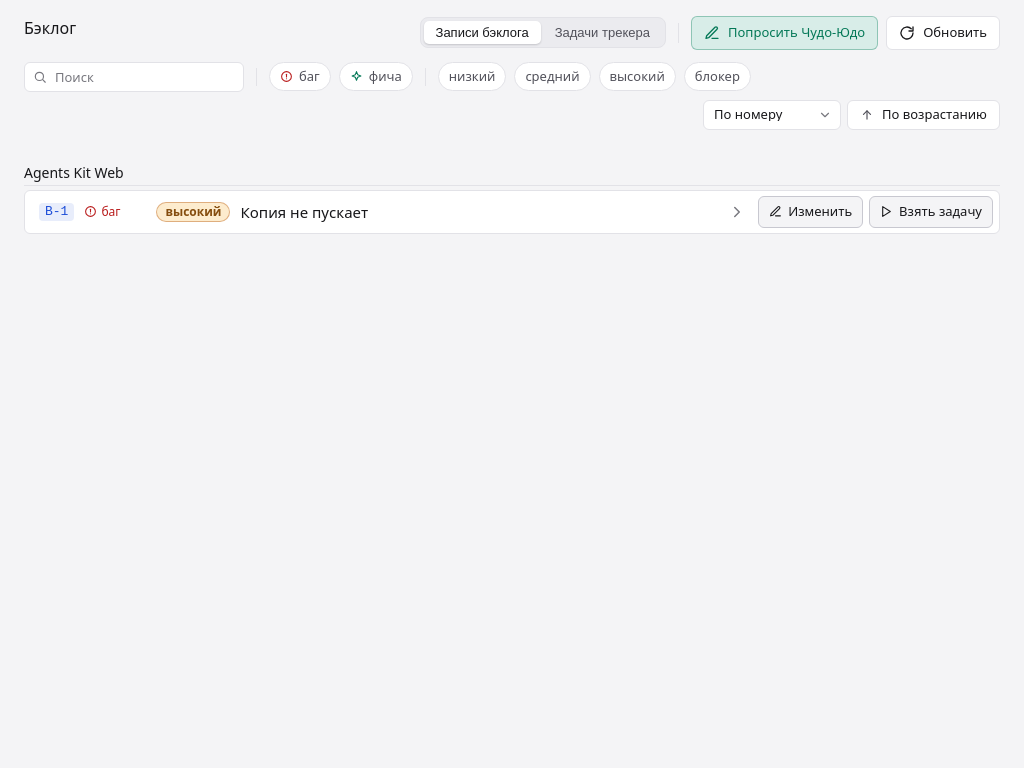
Test case: в окне записи тип и приоритет стоят под заголовком
What coordinates should you click on to do the following:
click the button "B-1 баг высокий Копия не пускает"
I would click on:
 (57, 212)
Its box is [33,194,752,229].
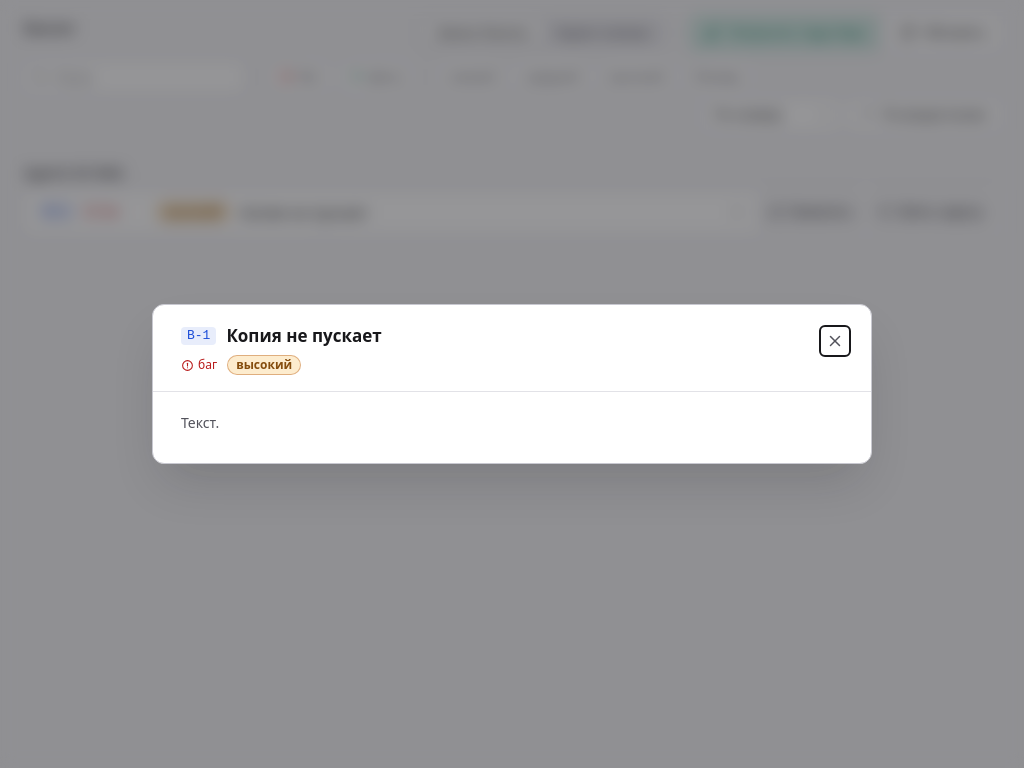
Result: the element with class "entry-modal-line" reads "B-1 Копия не пускает" at [181,324,382,347]
Result: the element with class "entry-modal-fields" reads "баг высокий" at [181,355,301,375]
